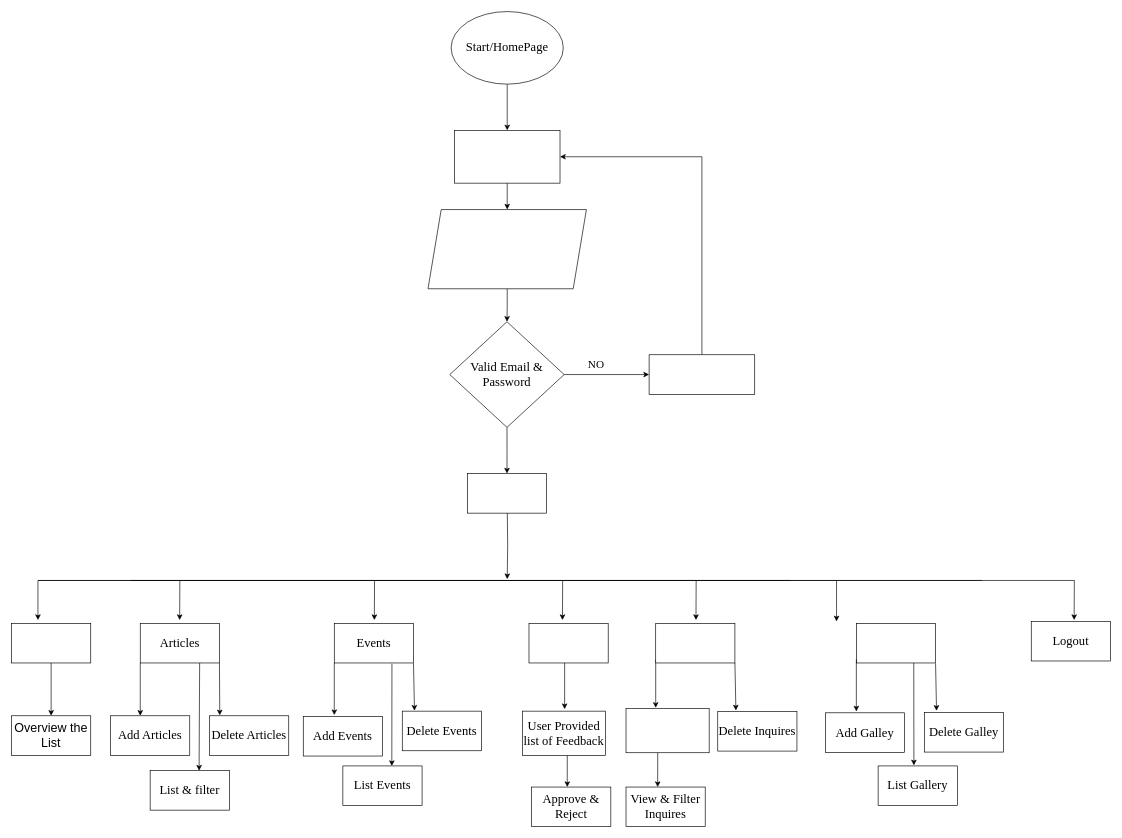
Some shapes in this 1122 by 838 pixel diagram are drawn without their labels. Each missing label, with the centre of its shape:
Dasboard: (x=51, y=643)
Enter Email and Password: (x=506, y=249)
Enter Valid Email & Password: (x=701, y=374)
Feedback: (x=568, y=643)
Gallery: (x=896, y=643)
Inquires: (x=695, y=643)
Login: (x=507, y=156)
Login Succesfully: (x=507, y=493)
User Provided list of Inquires: (x=667, y=730)
